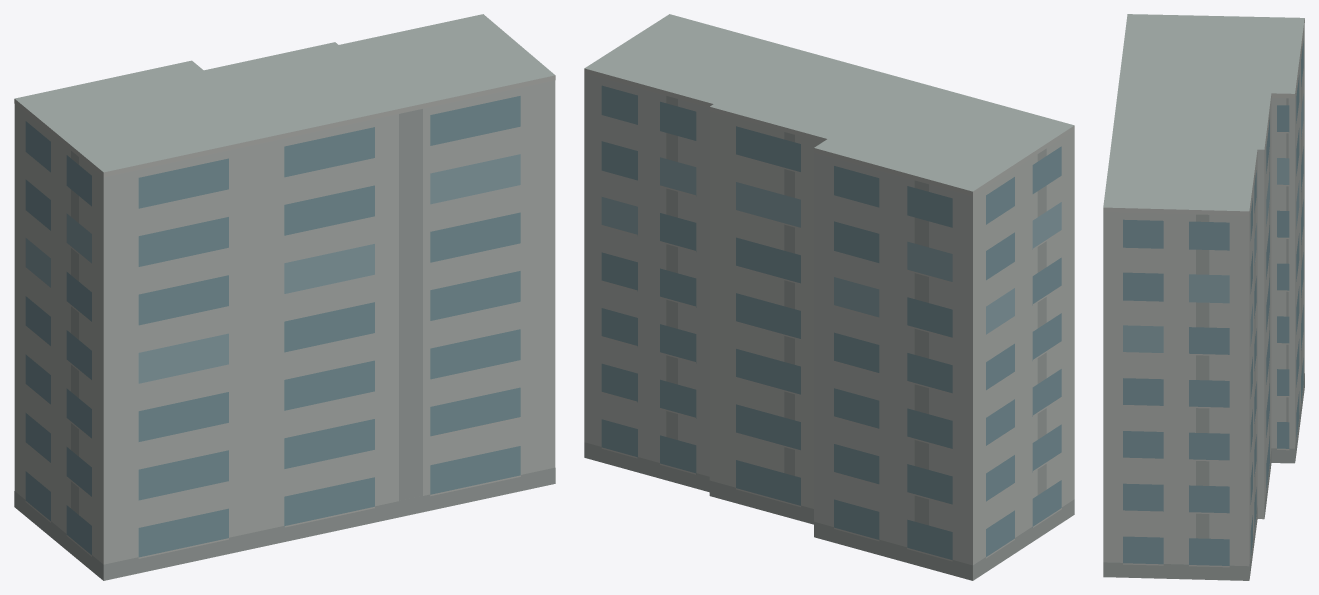
The model's file is survey-upis-32760564.glb.
3 views of the same model, side by side, from view 1: azimuth 30°, elevation 25°; view 2: azimuth 150°, elevation 25°; view 3: azimuth 270°, elevation 25° (orthographic). The views are drawn at different scales.
Parts seen in each view (by area): view 1: survey-upis-32760564.tmp; view 2: survey-upis-32760564.tmp; view 3: survey-upis-32760564.tmp.
Part boxes in pixels (left/top/right/bottom): survey-upis-32760564.tmp: left=14, top=14, right=555, bottom=580; survey-upis-32760564.tmp: left=584, top=14, right=1074, bottom=580; survey-upis-32760564.tmp: left=1103, top=14, right=1304, bottom=580.
Bounding box in the file's own units: 22.86 × 19.95 × 9.87.
